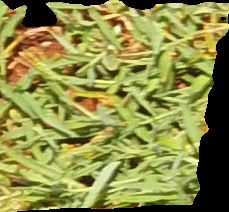grass: (1, 1, 228, 210)
